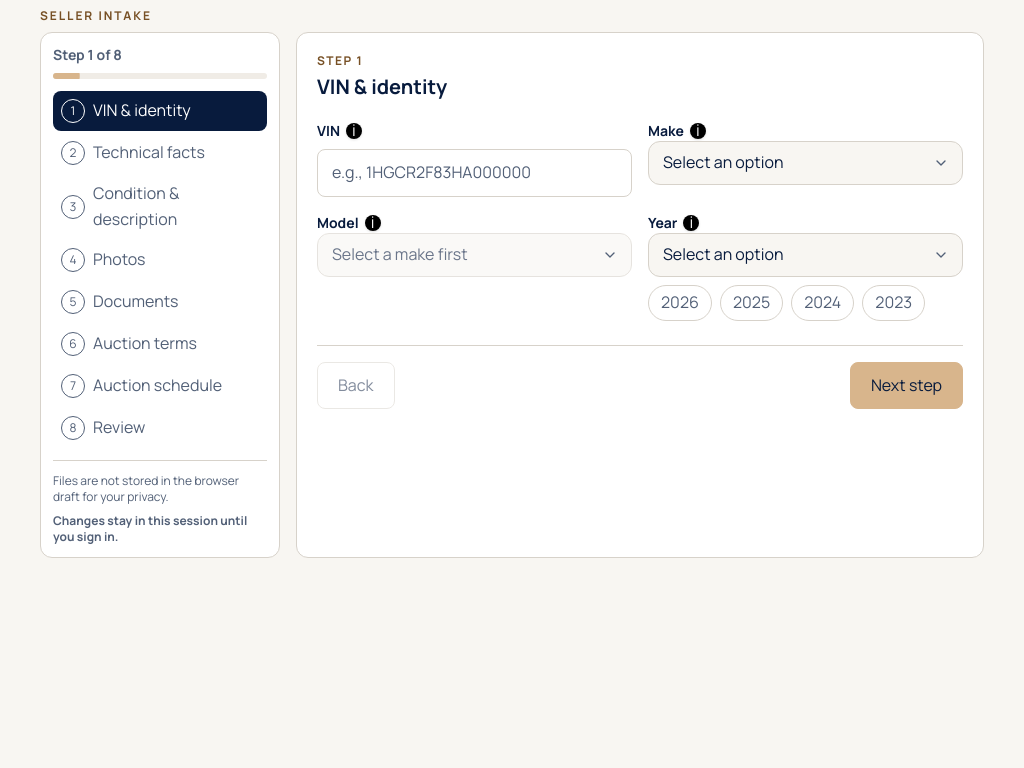
Test: vehicle seller wizard › uses a bounded year selector with quick recent choices
Step 1. Click the button "2026" → x=680, y=303, box x1=648 y1=285 x2=712 y2=321
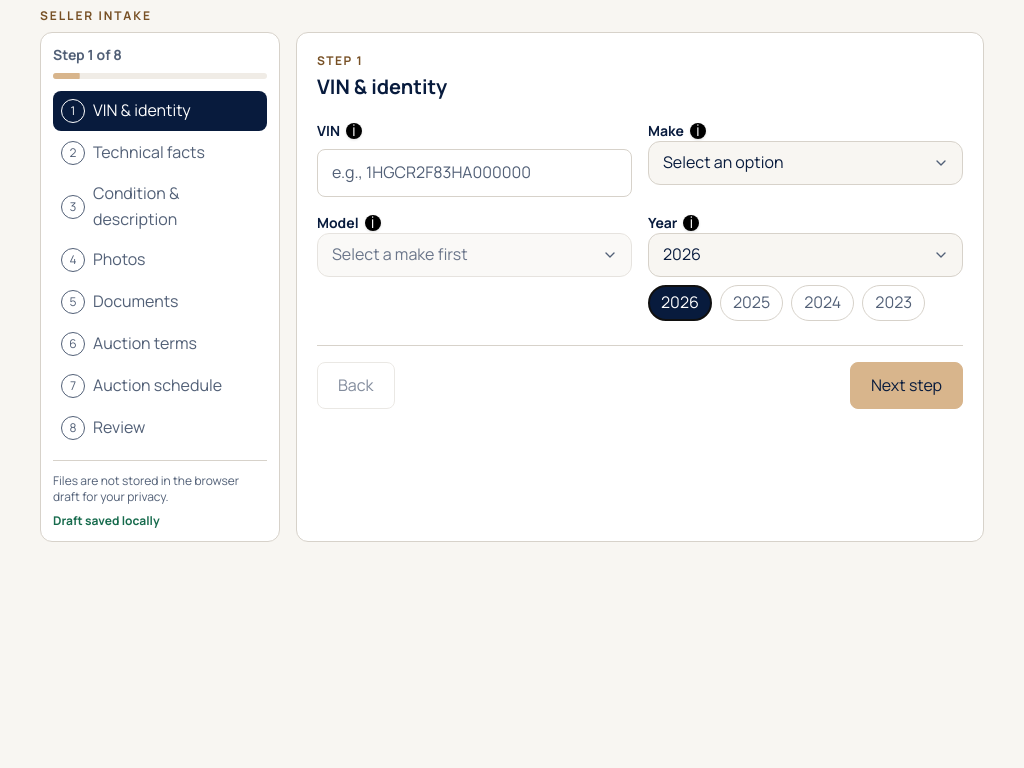
Check: the dropdown labelled "Year" shows "2026", box x1=648 y1=233 x2=963 y2=277
